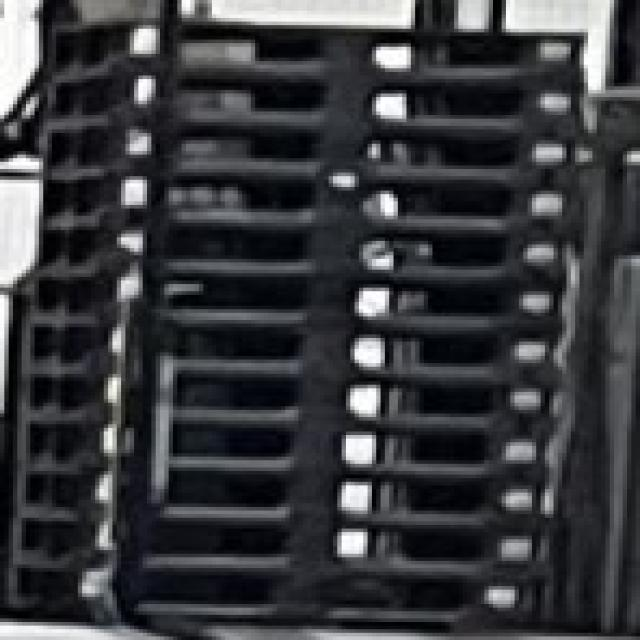igps: (0, 568, 566, 640), (24, 13, 593, 80), (33, 172, 596, 230), (30, 122, 592, 180), (10, 321, 572, 378), (10, 373, 575, 429), (30, 72, 592, 126), (13, 272, 574, 325), (6, 472, 562, 525), (4, 425, 564, 477), (3, 523, 560, 573), (26, 227, 578, 276)
